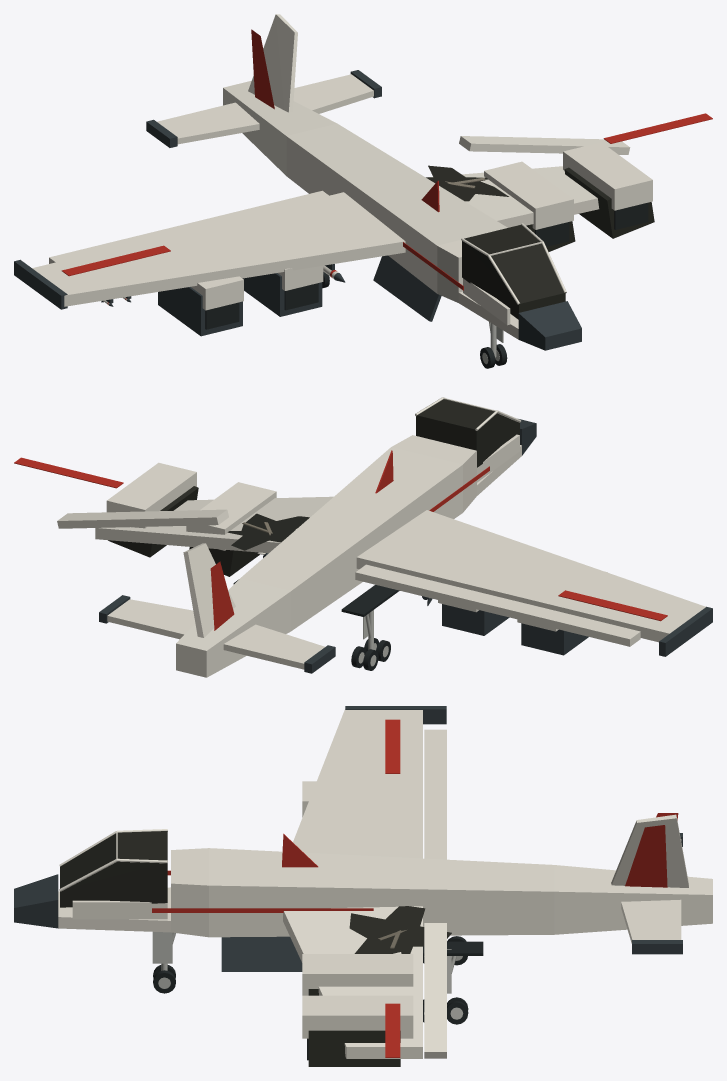
3 renders of one model, top to bottom at view 1: azimuth 30°, elevation 25°; view 2: azimuth 150°, elevation 25°; view 3: azimuth 270°, elevation 25°, orthographic. The views are drawn at different scales.
Parts seen in each view (by area): view 1: bomber-damaged-fleet-armor, bomber-damaged-fleet-machine, bomber-damaged-fleet-damage-charred, bomber-damaged-fleet-red, bomber-damaged-fleet-rubber, flap-right-painted, flap-left-painted; view 2: bomber-damaged-fleet-armor, bomber-damaged-fleet-damage-charred, flap-left-painted, bomber-damaged-fleet-machine, bomber-damaged-fleet-red, flap-right-painted, bomber-damaged-fleet-rubber; view 3: bomber-damaged-fleet-armor, bomber-damaged-fleet-damage-charred, bomber-damaged-fleet-machine, bomber-damaged-fleet-red, flap-right-painted, flap-left-painted, landing-gear-nose-painted, bomber-damaged-fleet-rubber.
Part boxes in pixels (x1,y1,x2,y2): bomber-damaged-fleet-armor: (32, 14, 652, 339); bomber-damaged-fleet-machine: (14, 70, 581, 350); bomber-damaged-fleet-damage-charred: (426, 165, 654, 319); bomber-damaged-fleet-red: (61, 29, 712, 290); bomber-damaged-fleet-rubber: (205, 202, 648, 329); flap-right-painted: (459, 136, 630, 154); flap-left-painted: (49, 190, 328, 263); bomber-damaged-fleet-armor: (95, 397, 705, 677); bomber-damaged-fleet-damage-charred: (108, 399, 519, 576); flap-left-painted: (355, 564, 640, 646); bomber-damaged-fleet-machine: (99, 419, 712, 673); bomber-damaged-fleet-red: (14, 450, 667, 630); flap-right-painted: (57, 509, 228, 528); bomber-damaged-fleet-rubber: (233, 579, 399, 616); bomber-damaged-fleet-armor: (58, 709, 712, 1058); bomber-damaged-fleet-damage-charred: (60, 831, 451, 1066); bomber-damaged-fleet-machine: (14, 706, 682, 971); bomber-damaged-fleet-red: (152, 719, 678, 1057); flap-right-painted: (424, 923, 446, 1058); flap-left-painted: (424, 729, 446, 859); landing-gear-nose-painted: (152, 932, 175, 970); bomber-damaged-fleet-rubber: (307, 941, 483, 1060).
Bounding box in the file's own units: 150 × 37.06 × 126.
